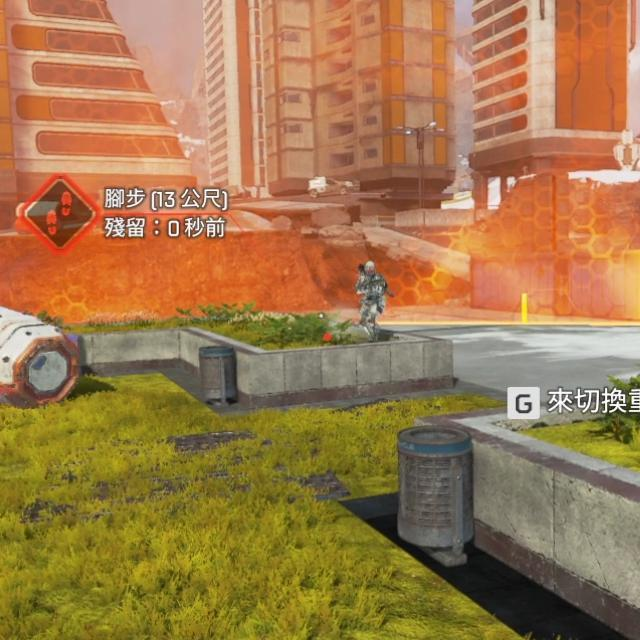avatar: (353, 260, 389, 341)
